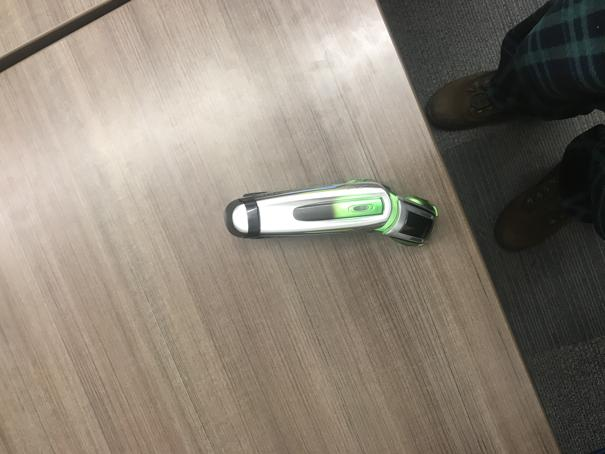Freewheel: (223, 179, 438, 245)
